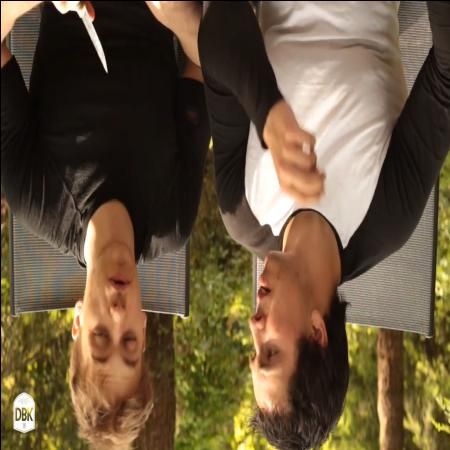long weapon: (65, 0, 115, 80)
